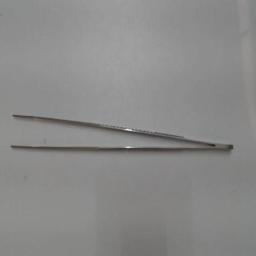DeBakey Dissector: (3, 106, 241, 162)
